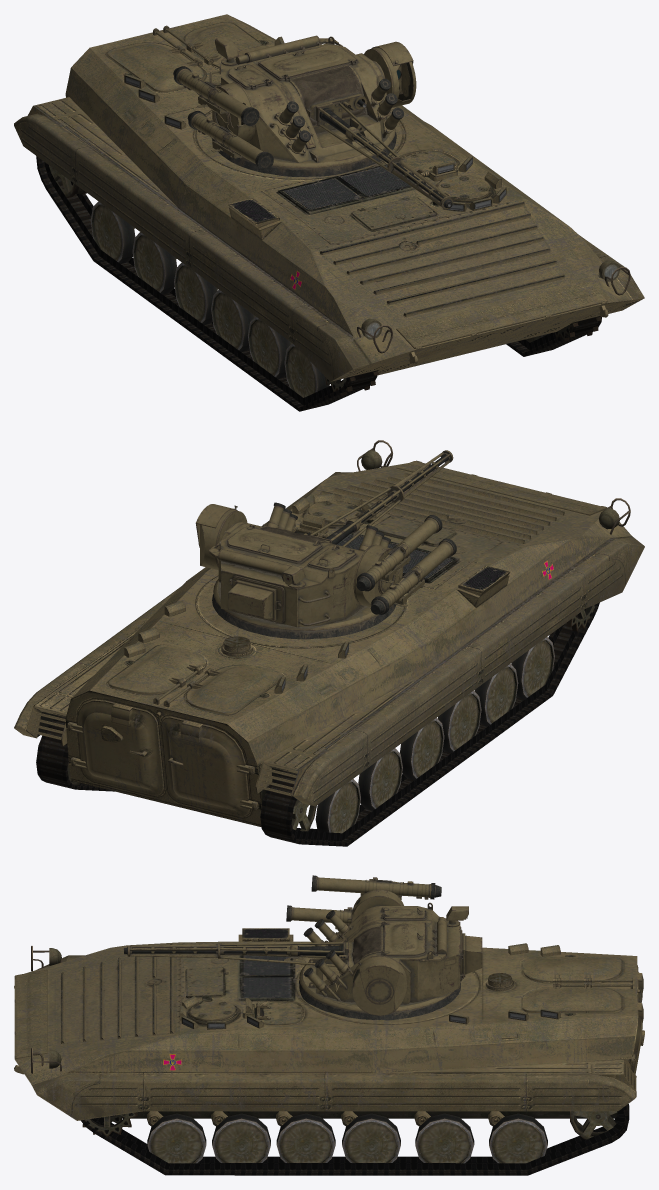
File: bmp1u_shkval.glb
3 renders of one model, top to bottom at view 1: azimuth 30°, elevation 25°; view 2: azimuth 150°, elevation 25°; view 3: azimuth 270°, elevation 25°, orthographic. The views are drawn at different scales.
Parts seen in each view (by area): view 1: 1_Material.001_0, 1_Material.002_0, 1_Material.004_0, 1_Material.003_0; view 2: 1_Material.001_0, 1_Material.002_0, 1_Material.004_0, 1_Material.003_0; view 3: 1_Material.001_0, 1_Material.002_0, 1_Material.004_0, 1_Material.003_0.
Part boxes in pixels (x1,y1,x2,y2): 1_Material.001_0: (14, 14, 644, 381); 1_Material.002_0: (173, 35, 453, 209); 1_Material.004_0: (49, 165, 630, 397); 1_Material.003_0: (36, 156, 601, 411); 1_Material.001_0: (14, 460, 644, 827); 1_Material.002_0: (195, 450, 456, 639); 1_Material.004_0: (26, 440, 630, 833); 1_Material.003_0: (36, 602, 599, 846); 1_Material.001_0: (14, 928, 644, 1126); 1_Material.002_0: (124, 875, 482, 1020); 1_Material.004_0: (31, 946, 617, 1163); 1_Material.003_0: (80, 1104, 629, 1175).
Size of the model in its own units: 3.14 by 2.4 by 6.68.
4 materials, 4 textured.
